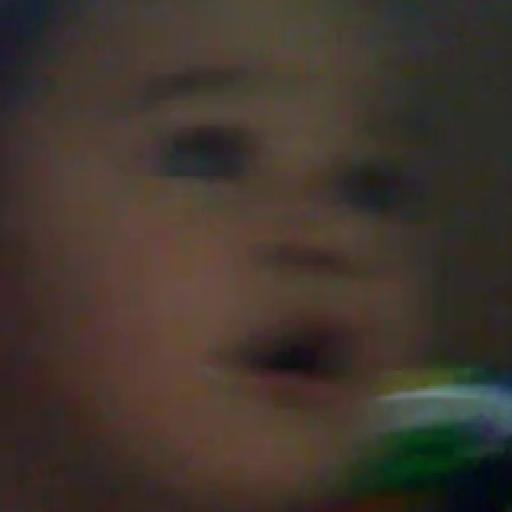Autism: (4, 36, 512, 470)
